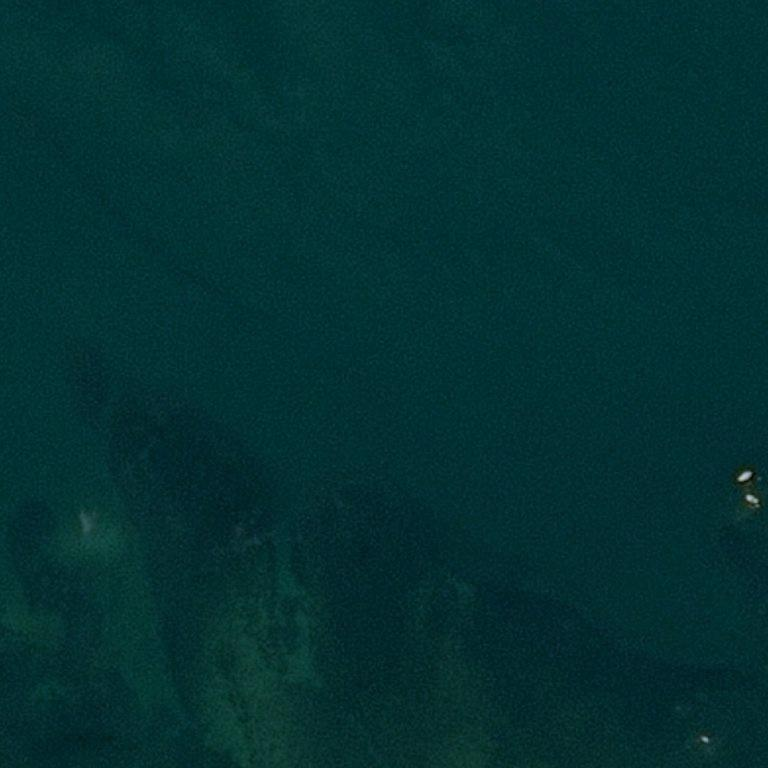ship: (731, 460, 757, 476), (743, 496, 761, 501), (737, 478, 741, 482), (747, 468, 751, 471), (745, 494, 748, 498), (751, 502, 755, 504), (757, 498, 759, 501), (751, 475, 754, 475)
